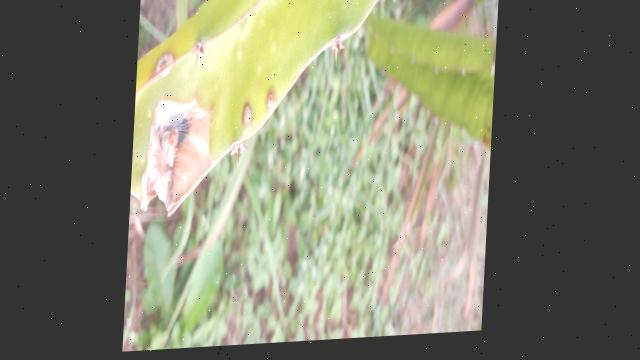stemcanker: (234, 99, 262, 140), (150, 49, 178, 77), (186, 37, 209, 67), (263, 88, 287, 115)
